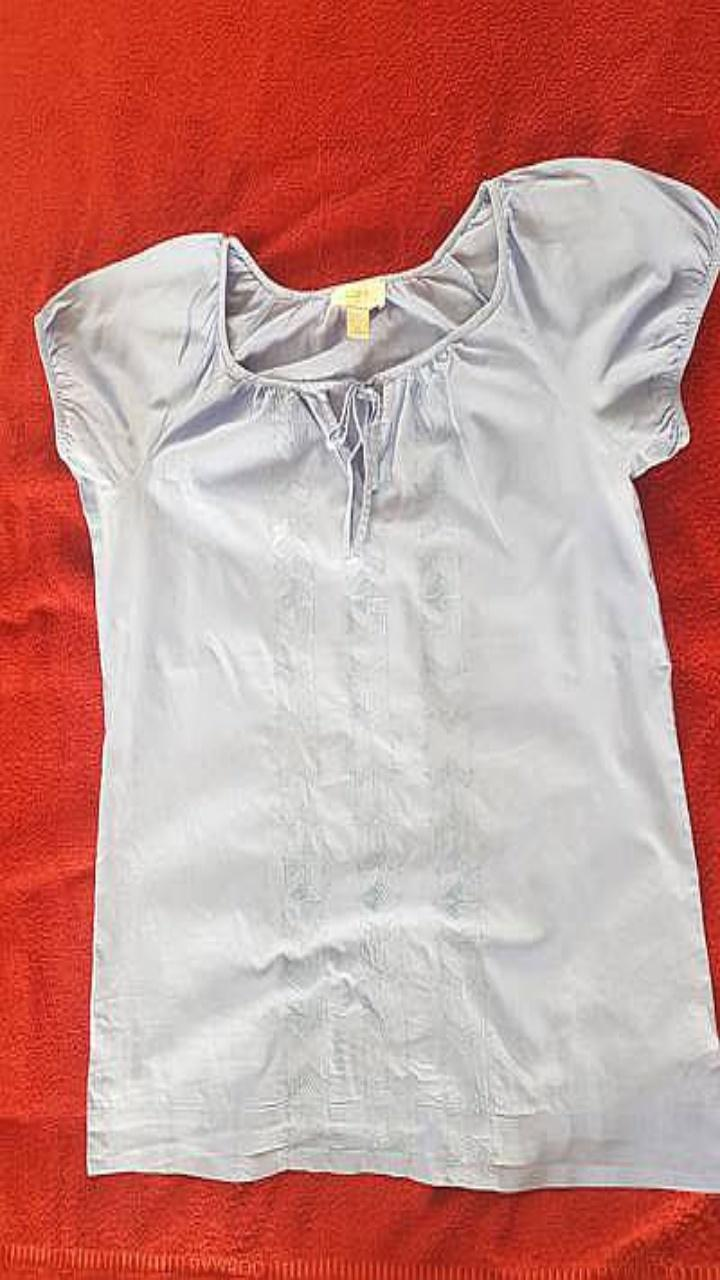T-Shirt: (35, 156, 719, 1190)
